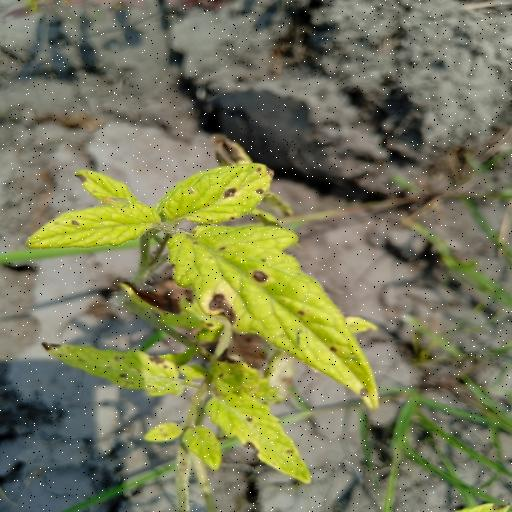Tomato_Brown_Spots: (23, 143, 386, 410)
